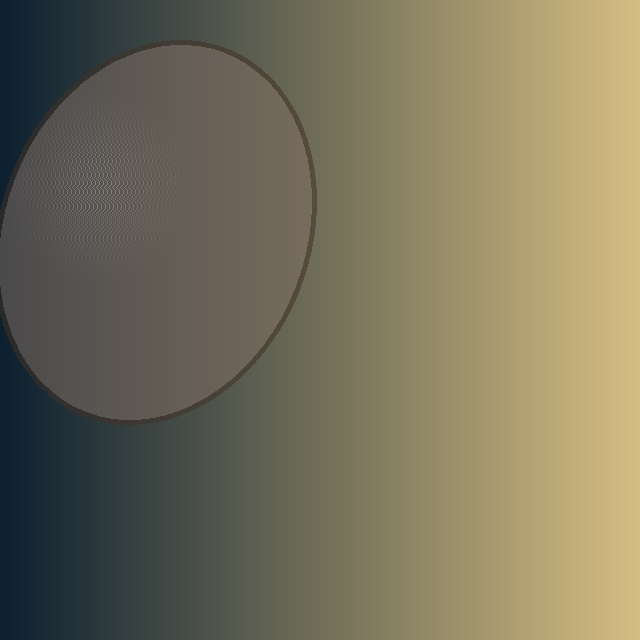lens: (0, 42, 314, 422)
